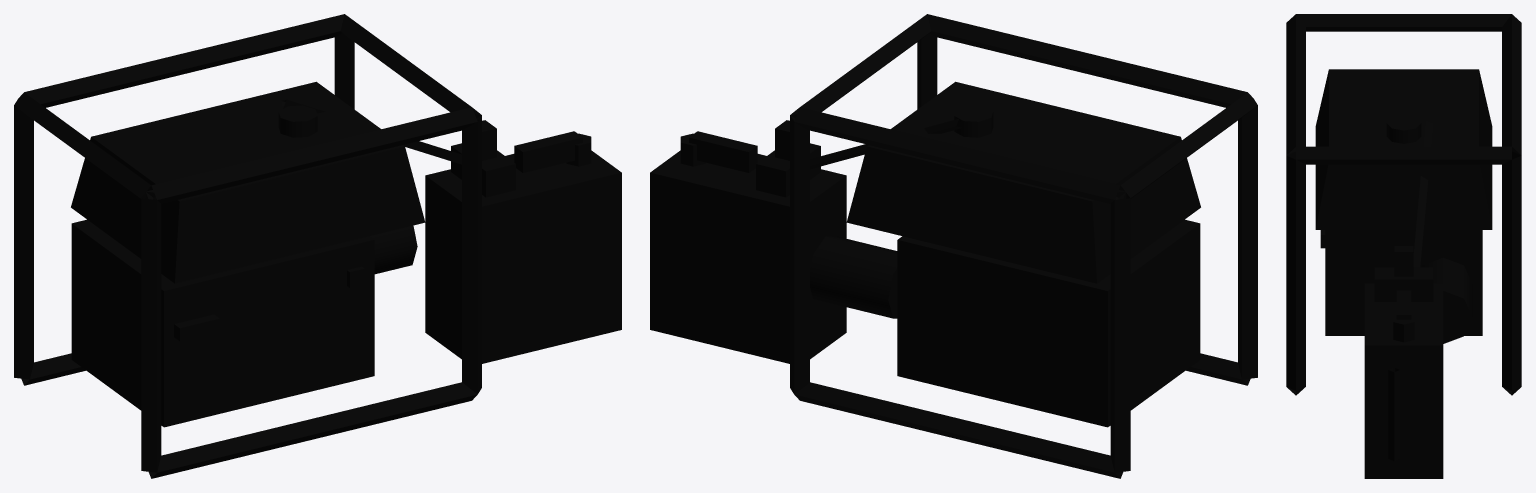
The model's file is SM_generator_camp.fbx.
3 renders of one model, left to right at view 1: azimuth 30°, elevation 25°; view 2: azimuth 150°, elevation 25°; view 3: azimuth 270°, elevation 25°, orthographic. The views are drawn at different scales.
Visible parts, largest first — view 1: generator_camp_engine, generator_camp, generator_camp_can, generator_camp_cord; view 2: generator_camp_engine, generator_camp, generator_camp_can; view 3: generator_camp_engine, generator_camp, generator_camp_can.
Boxes of the visible parts, x1=… form: generator_camp_engine: x1=71, y1=81, x2=425, y2=427; generator_camp: x1=14, y1=14, x2=481, y2=478; generator_camp_can: x1=281, y1=100, x2=621, y2=363; generator_camp_cord: x1=174, y1=314, x2=219, y2=341; generator_camp_engine: x1=810, y1=81, x2=1200, y2=427; generator_camp: x1=790, y1=14, x2=1257, y2=478; generator_camp_can: x1=650, y1=119, x2=962, y2=363; generator_camp_engine: x1=1315, y1=69, x2=1492, y2=343; generator_camp: x1=1286, y1=14, x2=1521, y2=395; generator_camp_can: x1=1364, y1=121, x2=1443, y2=478.
Size of the model in its own units: 1.06 by 0.57 by 0.48.
